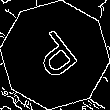P_SE: (25, 24, 85, 86)
